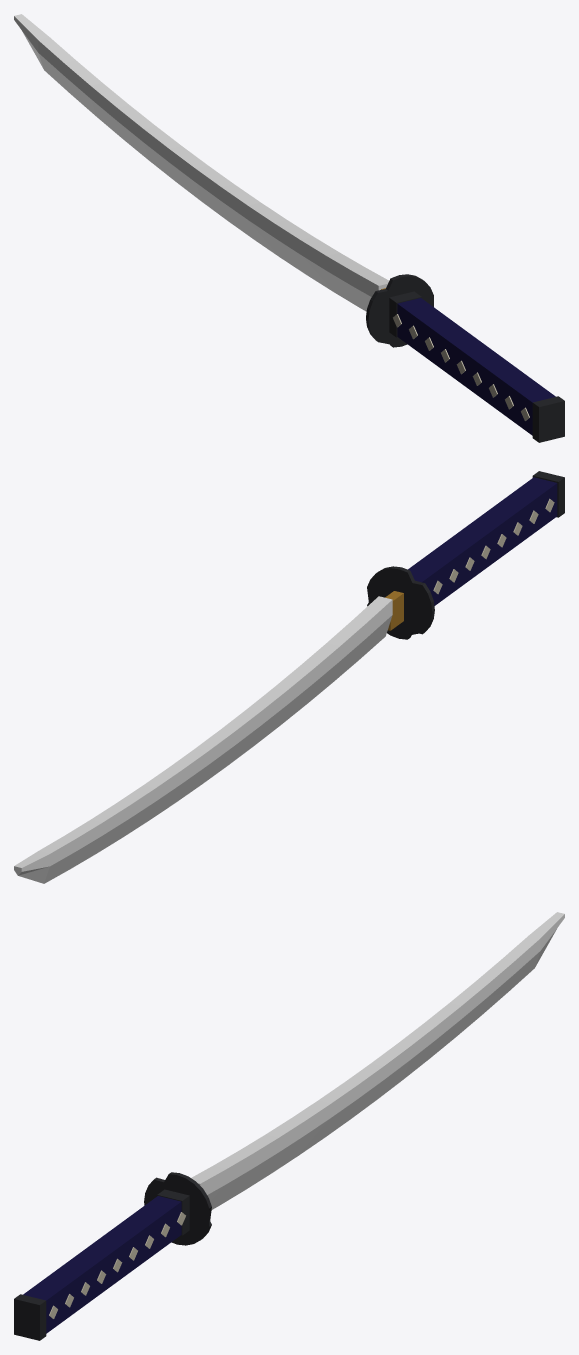
Rendered from katana_thunder.glb.
3 views of the same model, one above another, from view 1: azimuth 30°, elevation 25°; view 2: azimuth 150°, elevation 25°; view 3: azimuth 330°, elevation 25° (orthographic).
Parts seen in each view (by area): view 1: glow, katana_thunder; view 2: glow, katana_thunder; view 3: glow, katana_thunder.
Part boxes in pixels (box(x1,y1,x2,y2)): glow: box(14, 14, 388, 311); katana_thunder: box(366, 274, 564, 442); glow: box(14, 596, 392, 883); katana_thunder: box(367, 471, 564, 639); glow: box(191, 912, 564, 1209); katana_thunder: box(14, 1172, 211, 1340).
Size of the model in its own units: 0.0708 by 0.0737 by 1.
